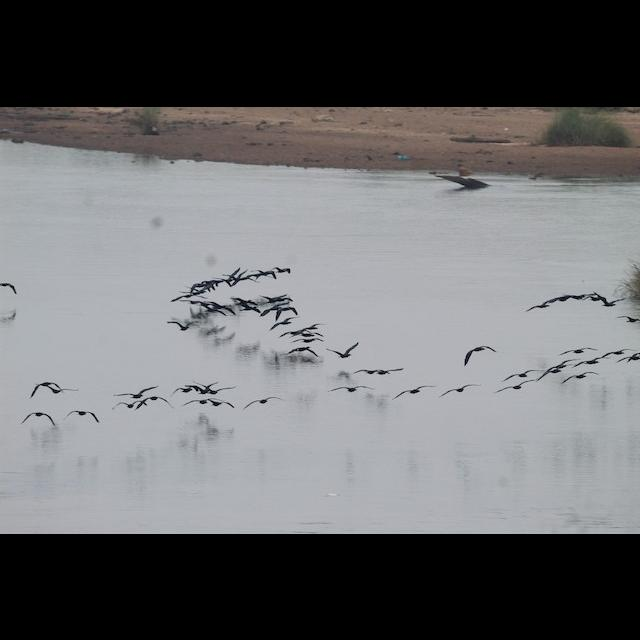cormorant: (389, 382, 438, 402), (241, 393, 285, 413), (462, 343, 498, 367), (113, 383, 159, 399), (326, 339, 360, 359), (440, 382, 482, 398), (493, 378, 535, 394), (62, 408, 102, 424), (19, 410, 57, 426), (560, 370, 600, 384), (326, 384, 378, 394), (268, 314, 300, 330), (166, 319, 198, 331), (288, 344, 318, 356), (616, 314, 640, 326)
